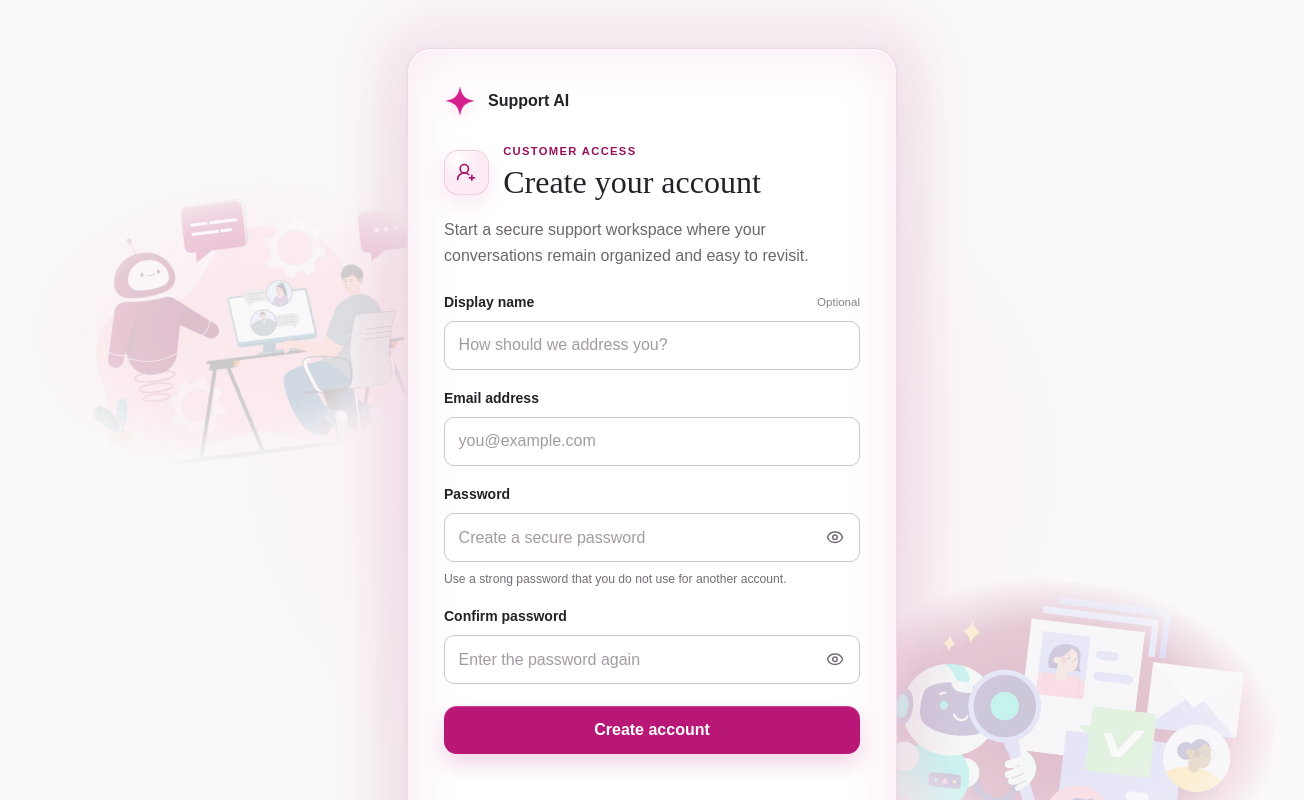
Test case: registration form › validates mismatched passwords without sending a request
Type " Customer Name " into the field labelled "Display name Optional" at (652, 345), box [444,321,860,370]
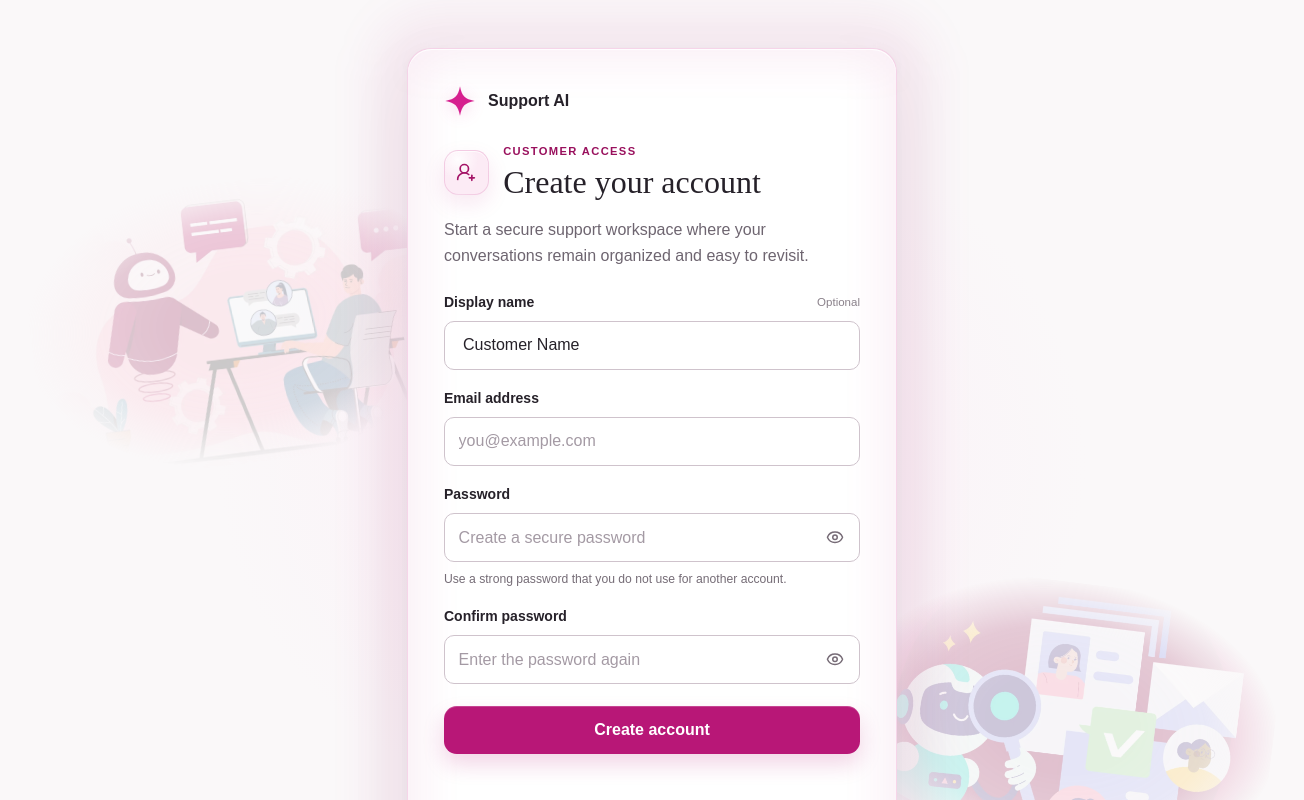
Type " CUSTOMER@example.test " into the field labelled "Email address" at (652, 441), box [444,417,860,466]
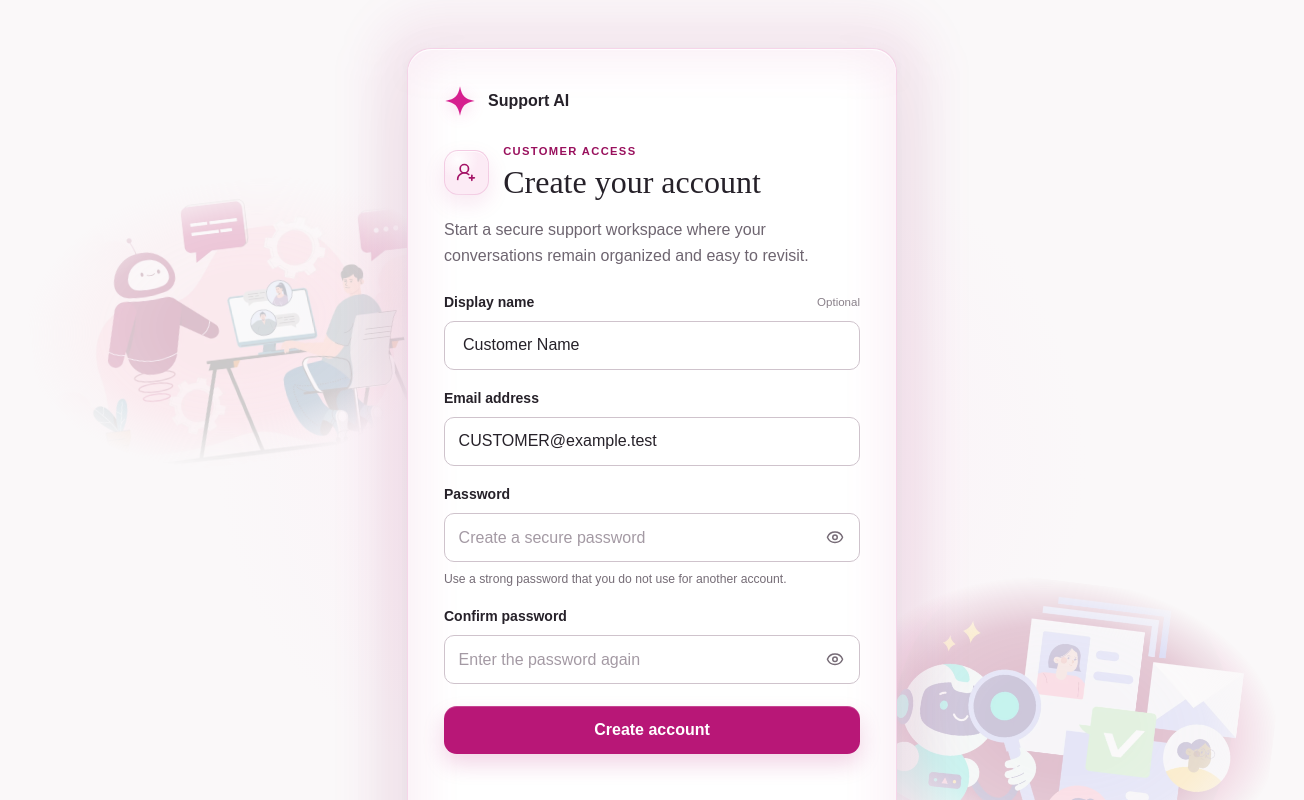
Type "first-password" into the password field labelled "Password" at (652, 538), box [444,513,860,562]
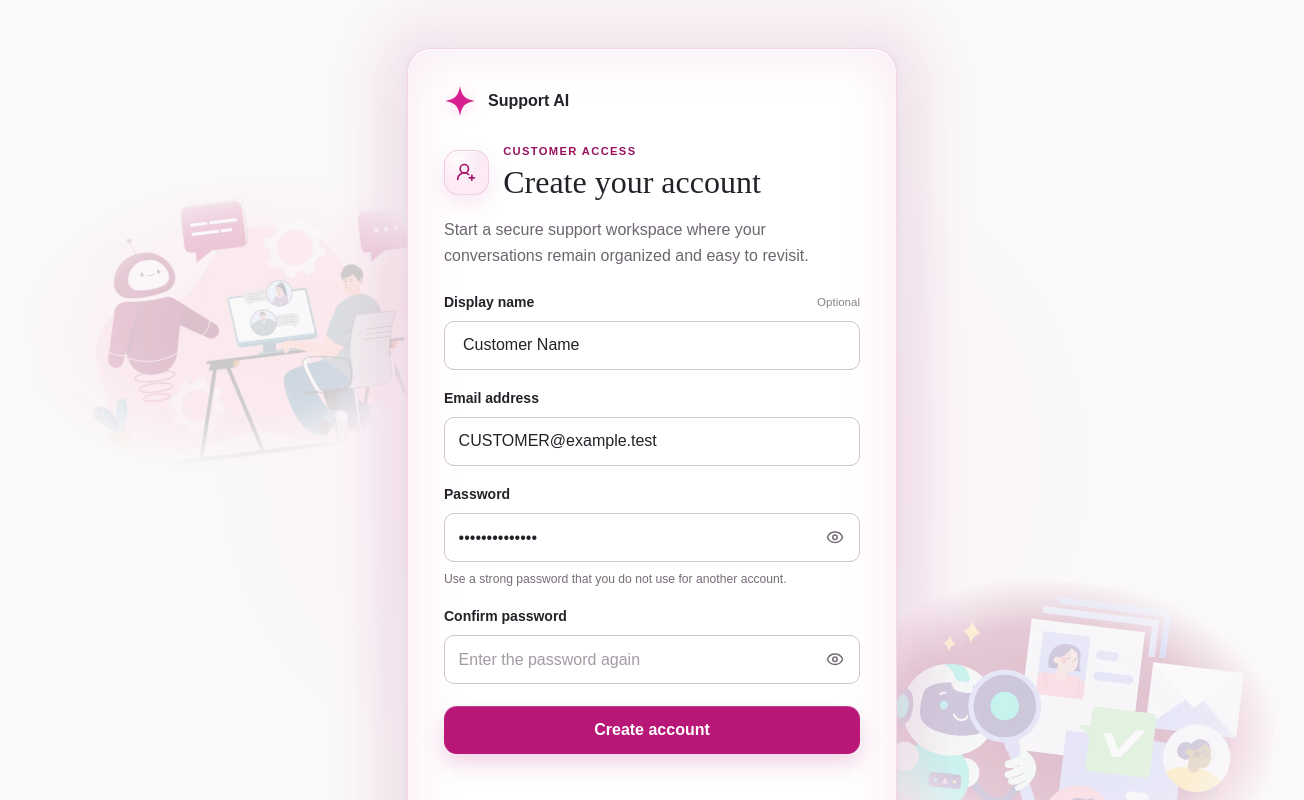
Type "different-password" into the password field labelled "Confirm password" at (652, 660), box [444,635,860,684]
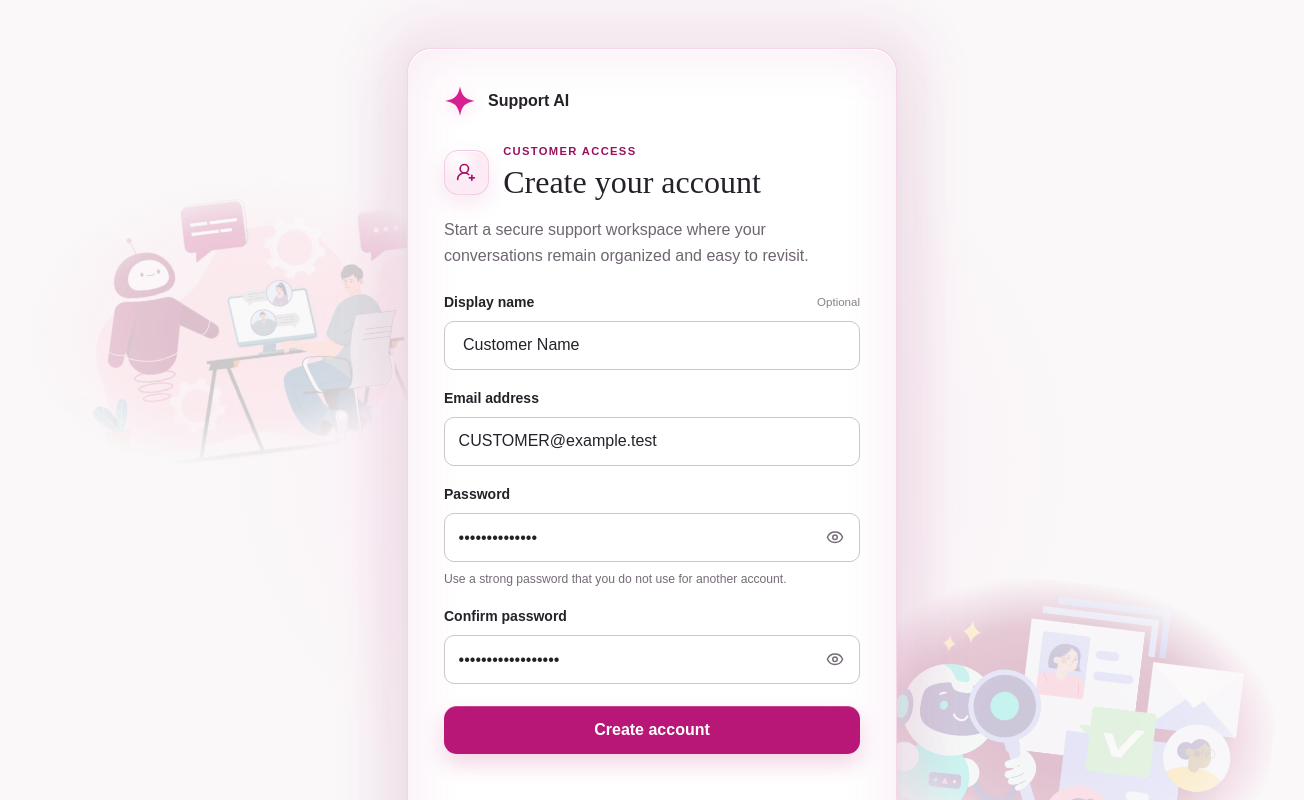
Submit the form named "Create customer account", box [444,292,860,799]
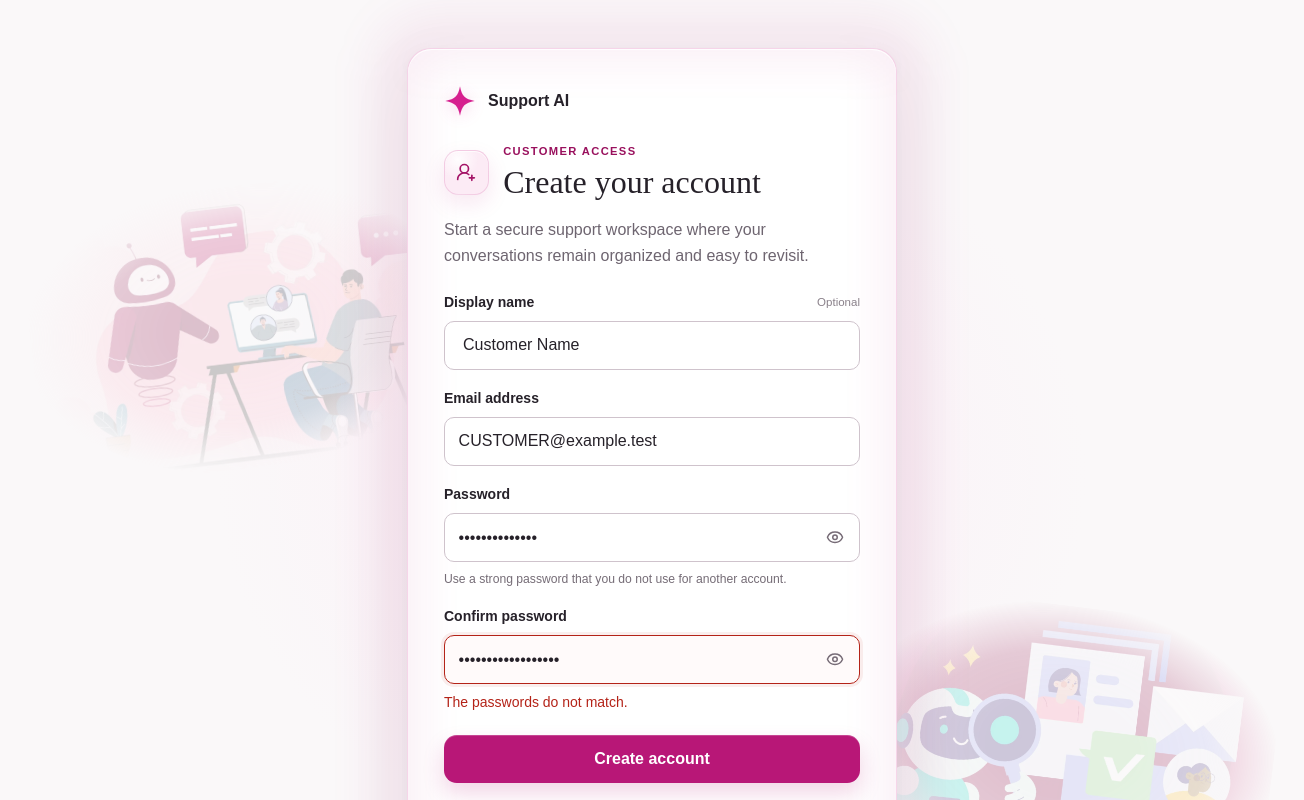
Result: the text "The passwords do not match." is shown at [444,694,628,710]
